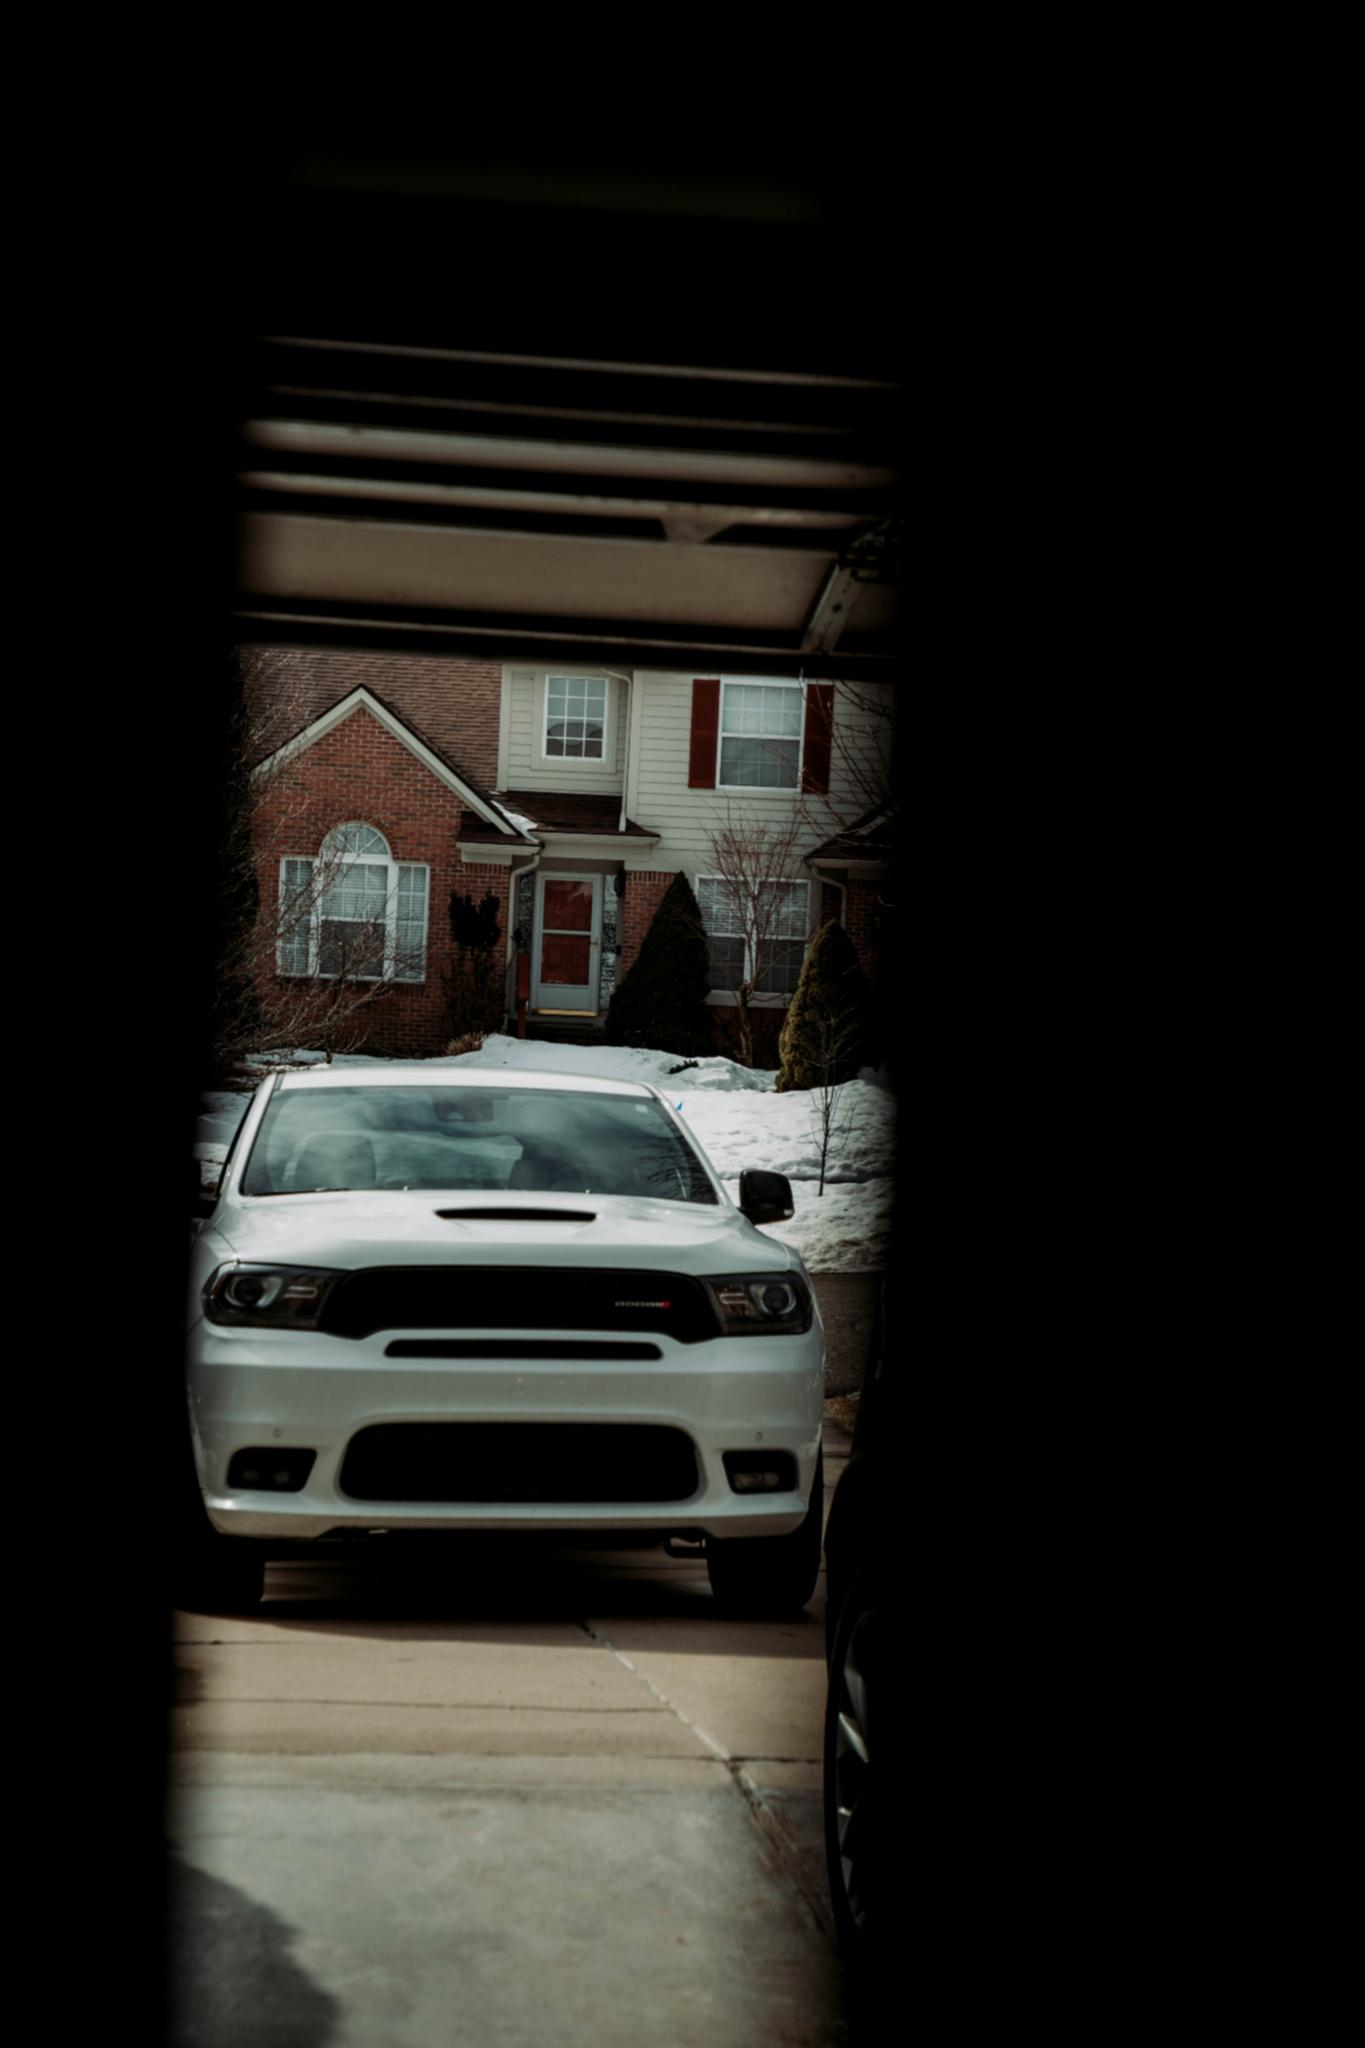dodge: (599, 1278, 690, 1326)
